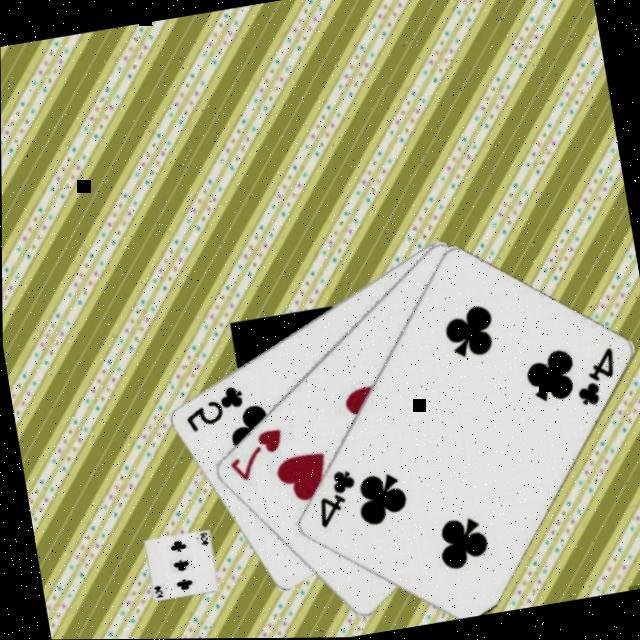4C: (566, 346, 622, 415), (308, 468, 362, 534)
5C: (177, 383, 248, 439)
7H: (220, 426, 290, 488)
